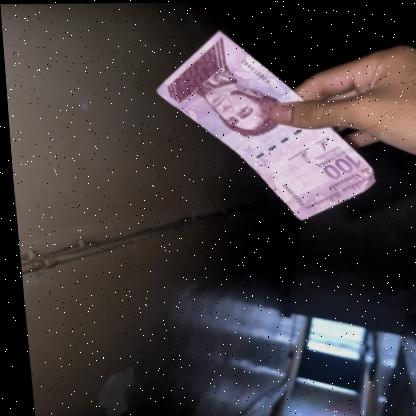one_hundred-front-vef: (148, 25, 377, 223)
